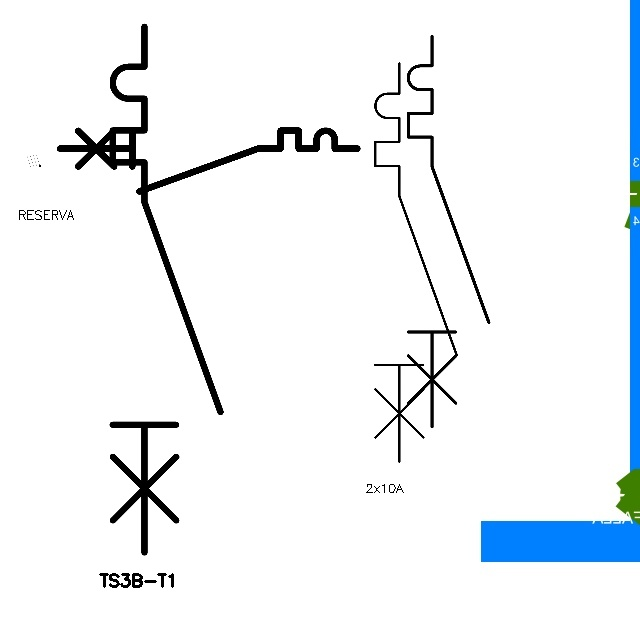interruptor_termomagnetico: (99, 13, 234, 565), (365, 53, 467, 472), (398, 26, 498, 437), (52, 123, 365, 199)
